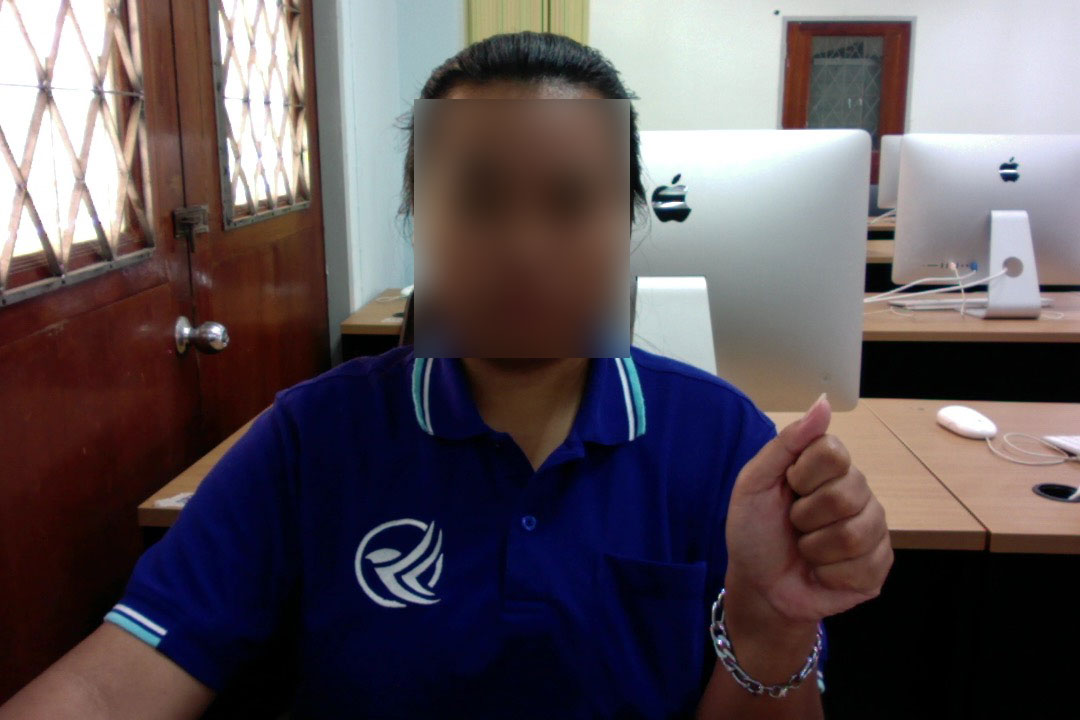or: (712, 387, 899, 638)
